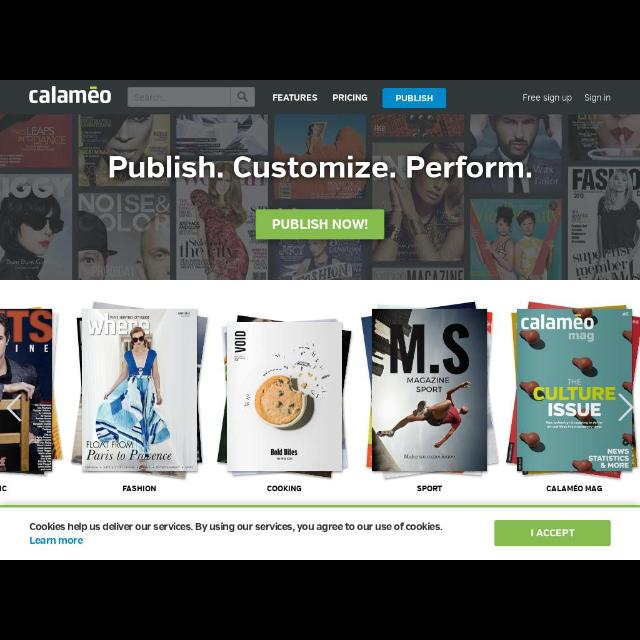backgroundimage: (1, 113, 639, 280)
button: (232, 88, 254, 106)
icon: (238, 91, 248, 103)
image: (361, 308, 499, 484), (509, 304, 639, 480), (74, 306, 204, 480), (220, 316, 350, 479), (0, 308, 58, 474), (28, 86, 110, 104)
input: (128, 88, 230, 106)
text: (110, 156, 530, 180), (30, 521, 442, 531), (272, 218, 368, 232), (29, 536, 83, 546), (522, 93, 572, 103), (528, 528, 574, 538), (272, 94, 316, 102), (546, 485, 604, 491), (134, 93, 166, 101), (583, 95, 611, 104), (395, 96, 433, 102), (332, 94, 366, 100), (122, 486, 156, 492), (267, 486, 301, 492), (418, 484, 442, 492), (0, 487, 8, 493)
textbutton: (256, 210, 384, 240), (494, 522, 610, 544), (381, 88, 447, 108)
toolbar: (1, 81, 639, 113)
